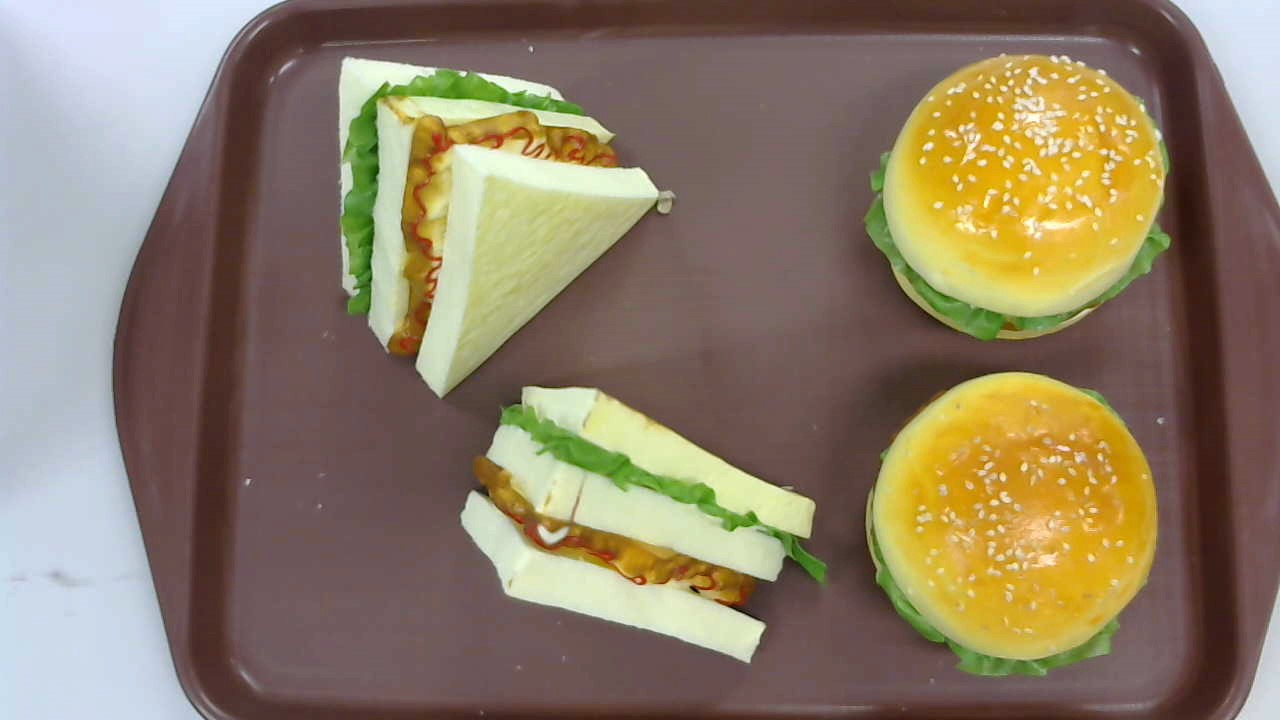hamburger: (866, 370, 1159, 678), (865, 53, 1170, 342)
sandwich: (338, 54, 660, 401), (461, 385, 826, 664)
